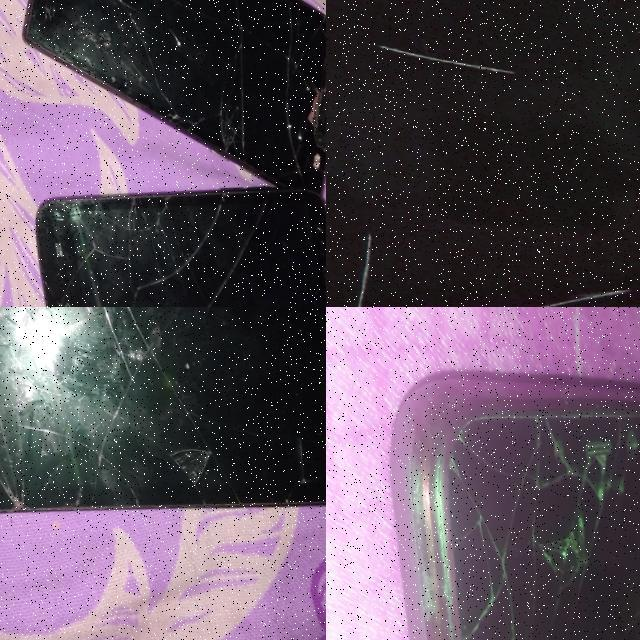scratch: (452, 268, 622, 307), (370, 39, 510, 72), (326, 231, 367, 307)
screen crack: (418, 391, 640, 640), (29, 0, 326, 169), (0, 307, 167, 526), (24, 186, 250, 307)
